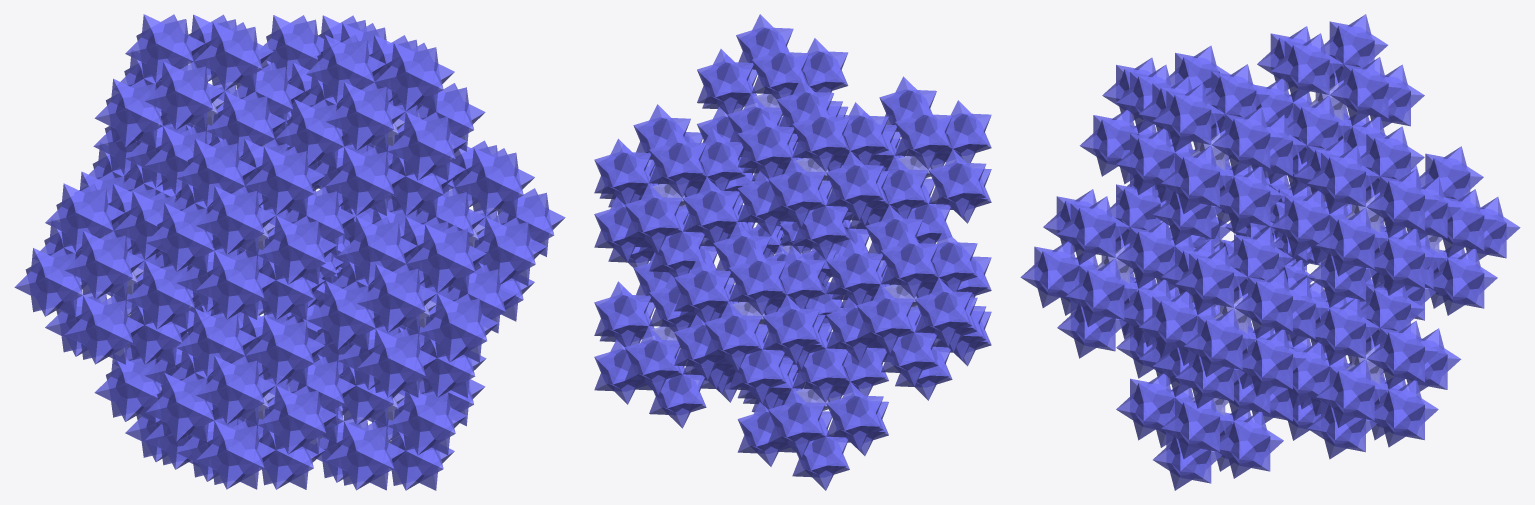
Rendered from fractalmedialrhombictriacontahedron2.glb.
3 views of the same model, side by side, from view 1: azimuth 30°, elevation 25°; view 2: azimuth 150°, elevation 25°; view 3: azimuth 270°, elevation 25° (orthographic). The views are drawn at different scales.
Size of the model in its own units: 11.1 by 9.7 by 11.1.
